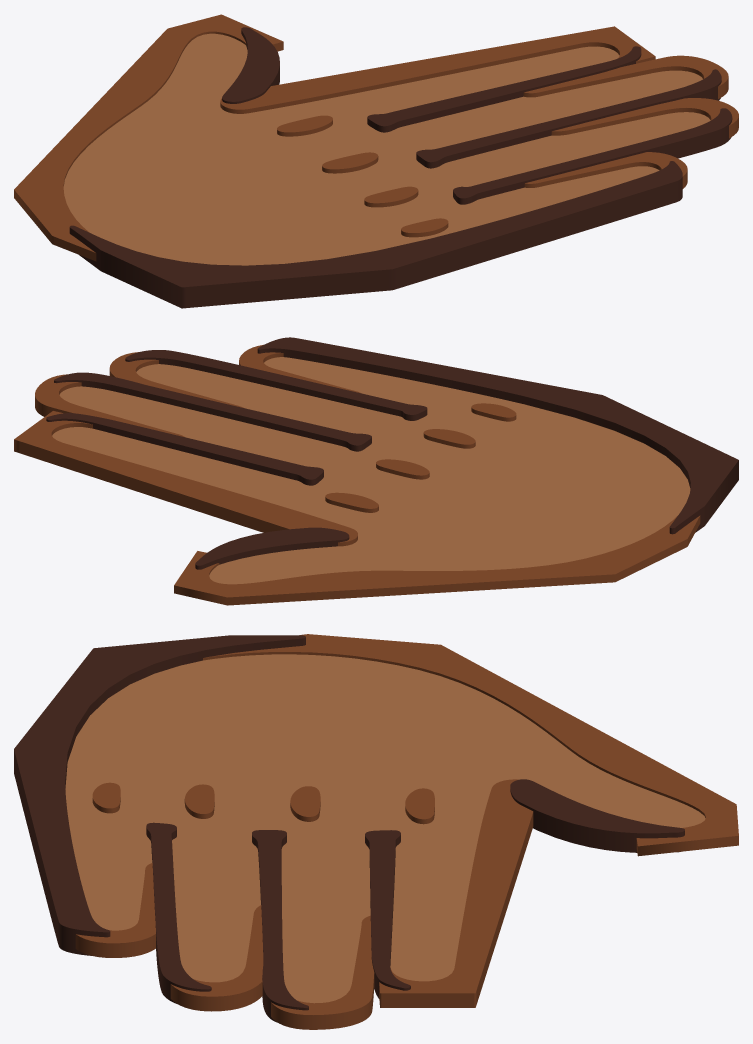
File: emoji_u1faf1_1f3fe.glb
3 views of the same model, one above another, from view 1: azimuth 30°, elevation 25°; view 2: azimuth 150°, elevation 25°; view 3: azimuth 270°, elevation 25° (orthographic). The views are drawn at different scales.
Visible parts, largest first — view 1: emoji_u1faf1_1f3fe; view 2: emoji_u1faf1_1f3fe; view 3: emoji_u1faf1_1f3fe.
Part boxes in pixels (x1,y1,x2,y2): emoji_u1faf1_1f3fe: [14, 14, 738, 308]; emoji_u1faf1_1f3fe: [14, 337, 738, 605]; emoji_u1faf1_1f3fe: [14, 634, 738, 1029].
Bounding box in the file's own units: 0.0334 × 0.001 × 0.0267.
